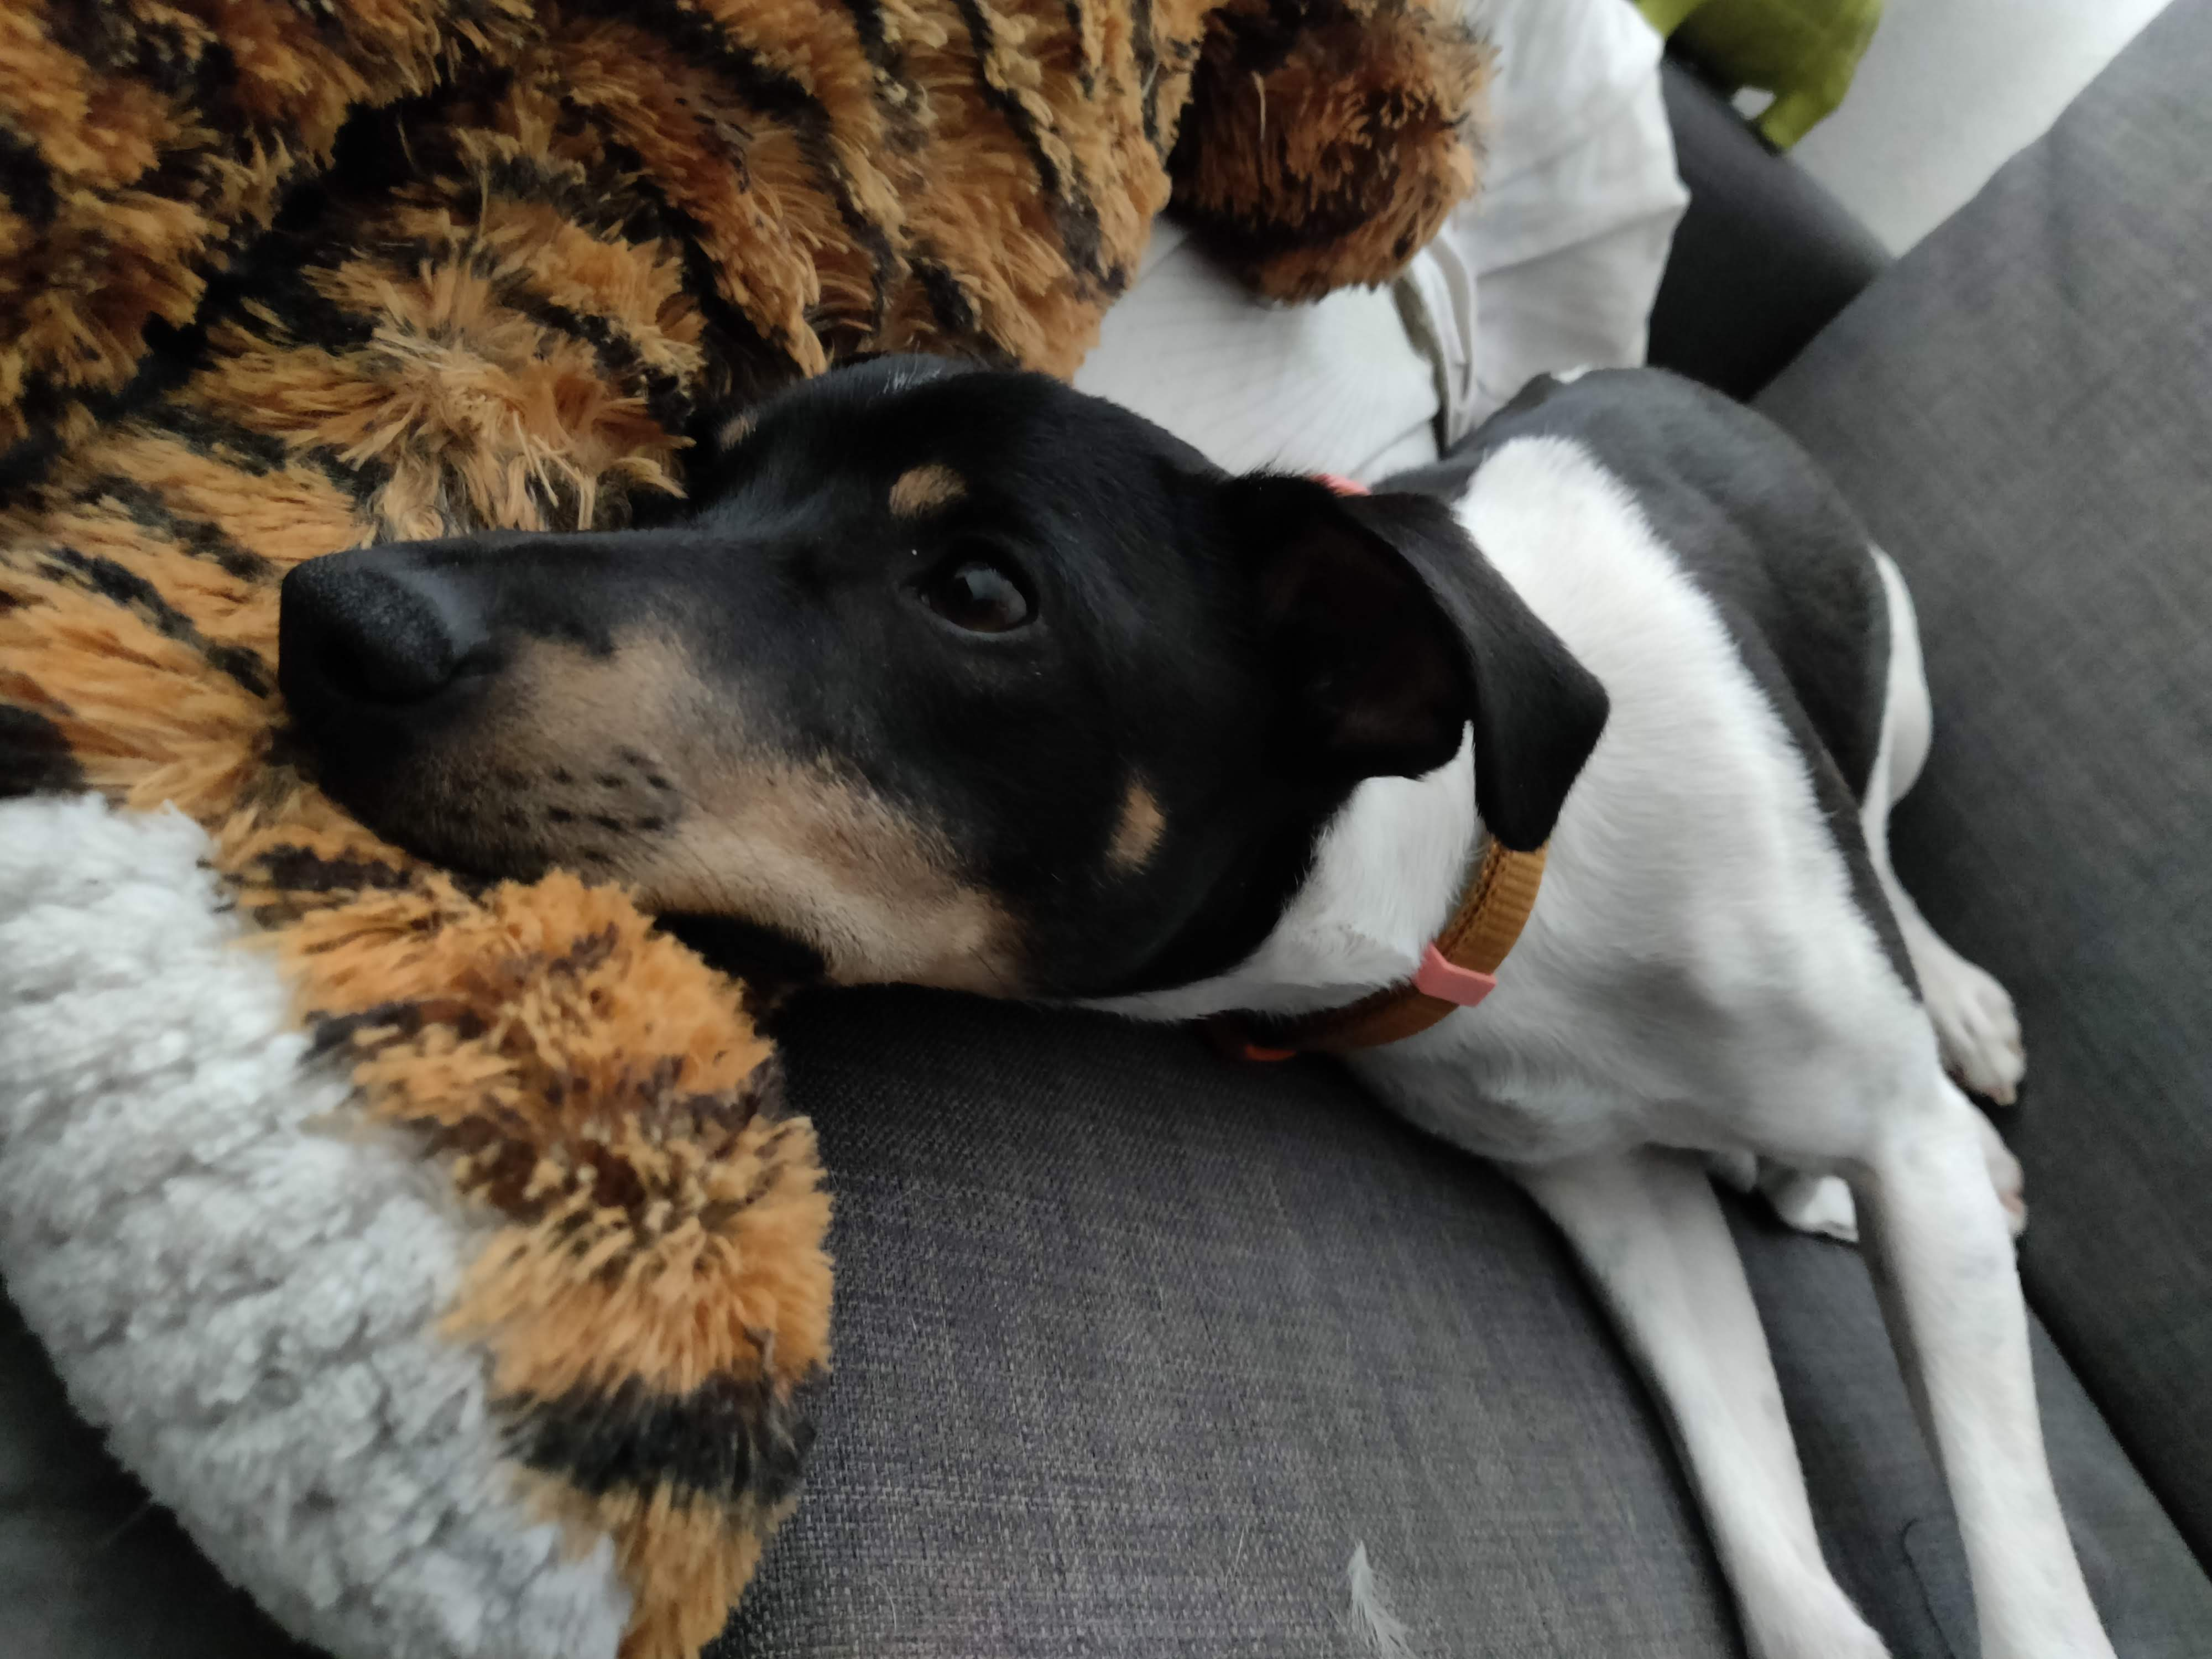Dog: (258, 347, 2130, 1659)
